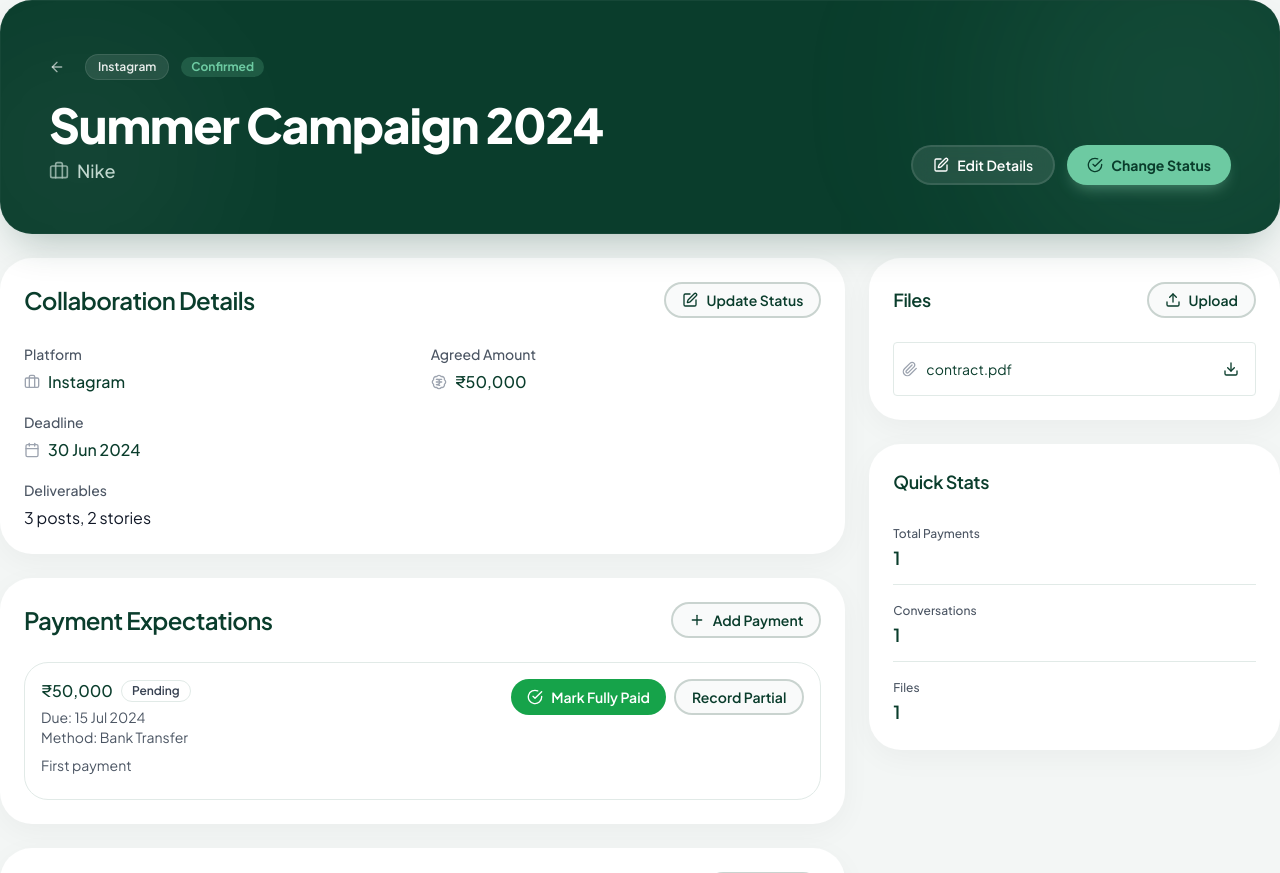
Test: CollaborationDetailPage › Status Update › should open status update dialog
Expected: the heading "Summer Campaign 2024" is shown, [49,101,603,149]
Step 1. Click the button "Update Status" → [743, 300], box [664,282,821,318]
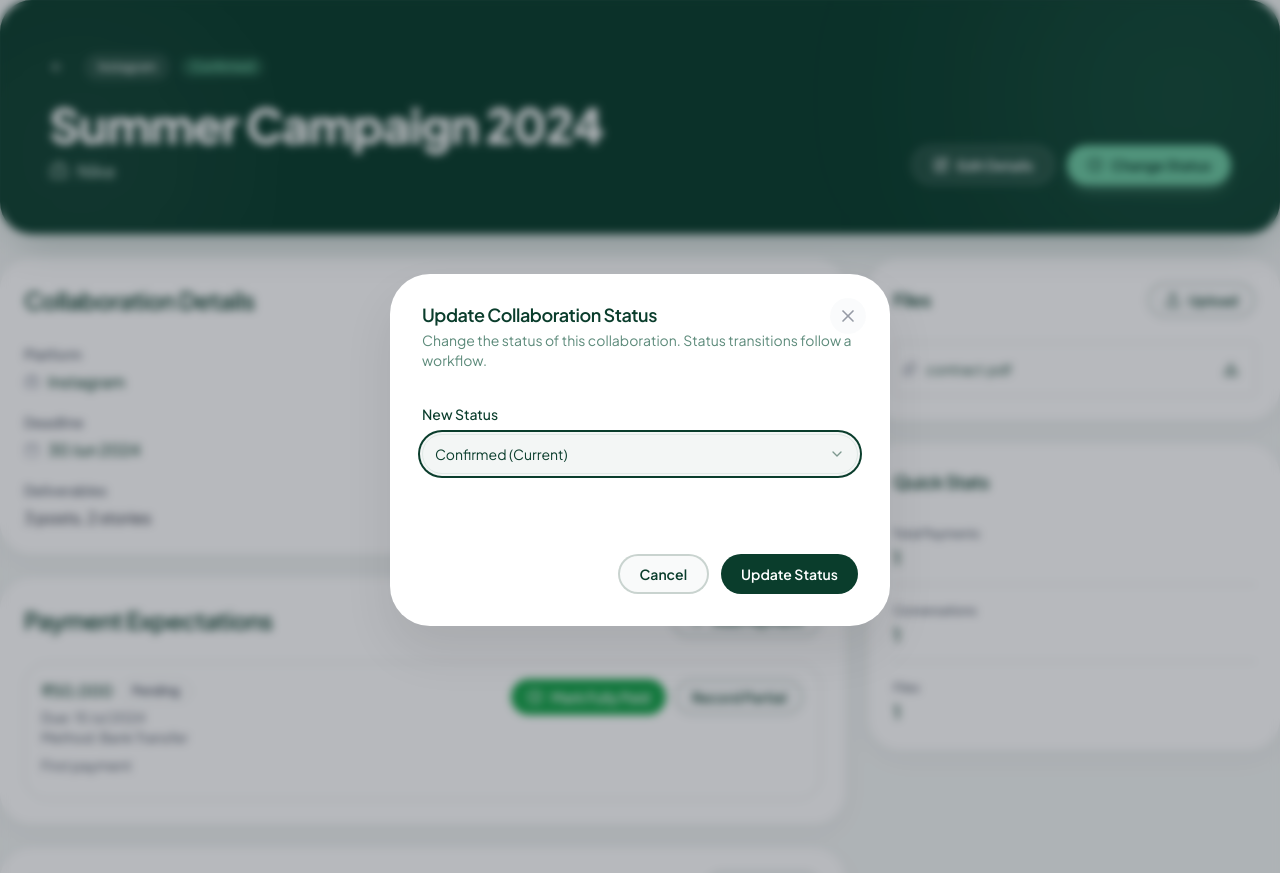
Expected: the dialog is shown, [390,274,890,626]
Expected: the heading "Update Collaboration Status" is shown, [422,303,657,326]
